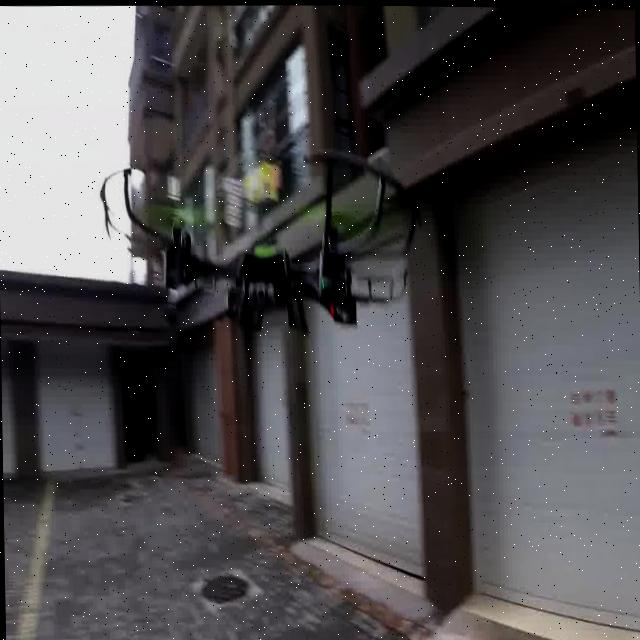drone: (102, 159, 430, 358)
